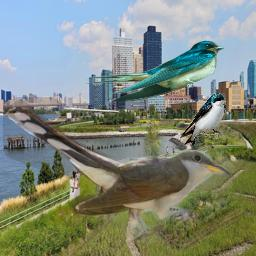Cuckoo: (3, 97, 235, 246)
Swallow: (85, 40, 224, 103), (180, 93, 226, 145)
